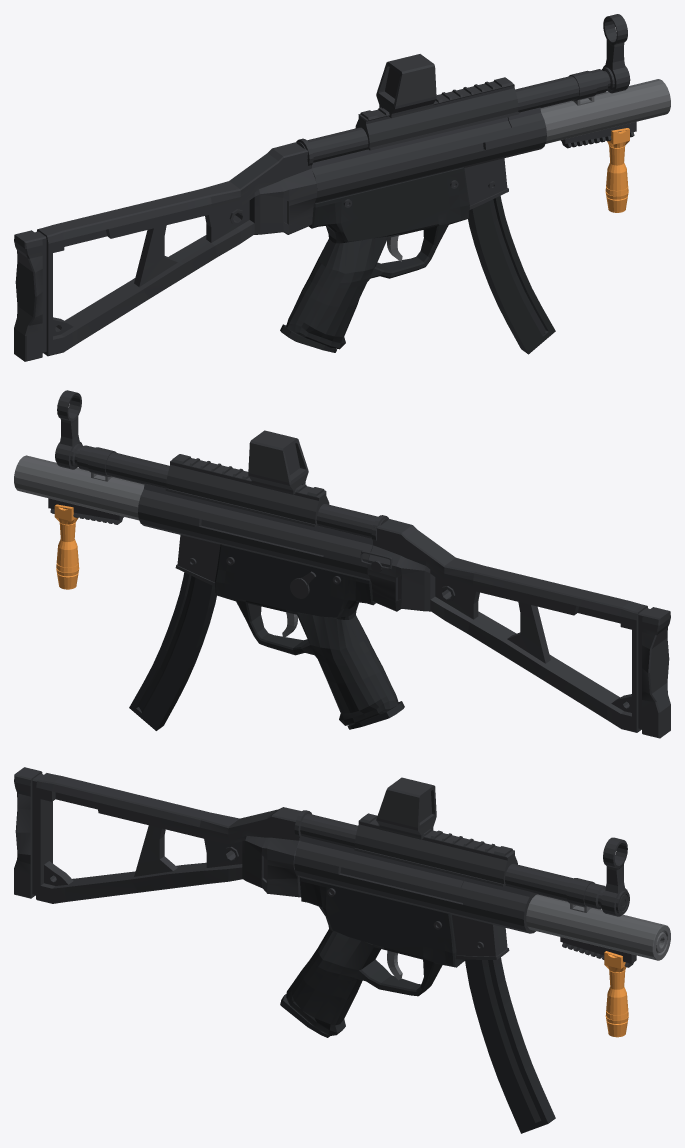
File: smg.glb
3 views of the same model, one above another, from view 1: azimuth 30°, elevation 25°; view 2: azimuth 150°, elevation 25°; view 3: azimuth 330°, elevation 25° (orthographic).
Parts seen in each view (by area): view 1: Body, Grip, Magazine, Suppressor, ForeGrip; view 2: Body, Grip, Magazine, Suppressor, ForeGrip; view 3: Body, Grip, Magazine, Suppressor, ForeGrip.
Boxes of the visible parts, box(x1,y1,x2,y2) form: Body: box(14, 14, 636, 361); Grip: box(280, 167, 469, 352); Magazine: box(468, 196, 555, 354); Suppressor: box(540, 79, 670, 143); ForeGrip: box(605, 128, 629, 212); Body: box(48, 390, 670, 738); Grip: box(215, 544, 404, 729); Magazine: box(129, 572, 216, 730); Suppressor: box(14, 455, 144, 520); ForeGrip: box(54, 504, 79, 589); Body: box(14, 767, 636, 967); Grip: box(280, 877, 464, 1037); Magazine: box(465, 957, 555, 1133); Suppressor: box(526, 894, 670, 960); ForeGrip: box(604, 951, 628, 1037).
Bounding box in the file's own units: 0.8558 × 0.4032 × 0.057.
